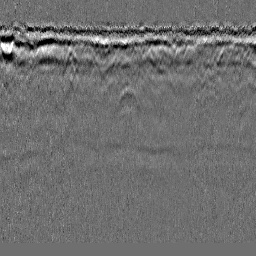cavity: (115, 83, 141, 113)
